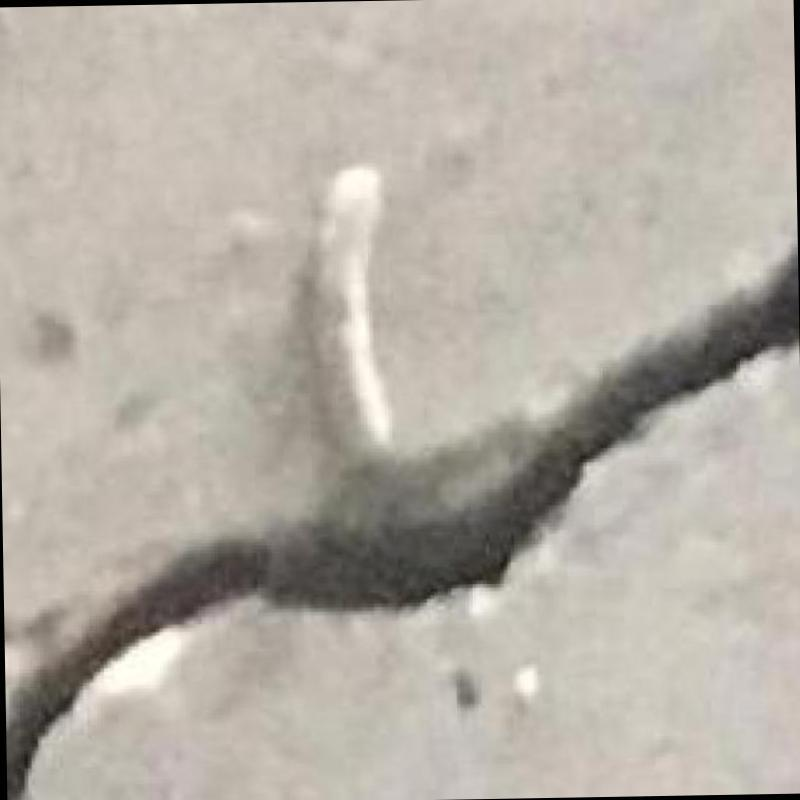pothole: (6, 247, 798, 800)
